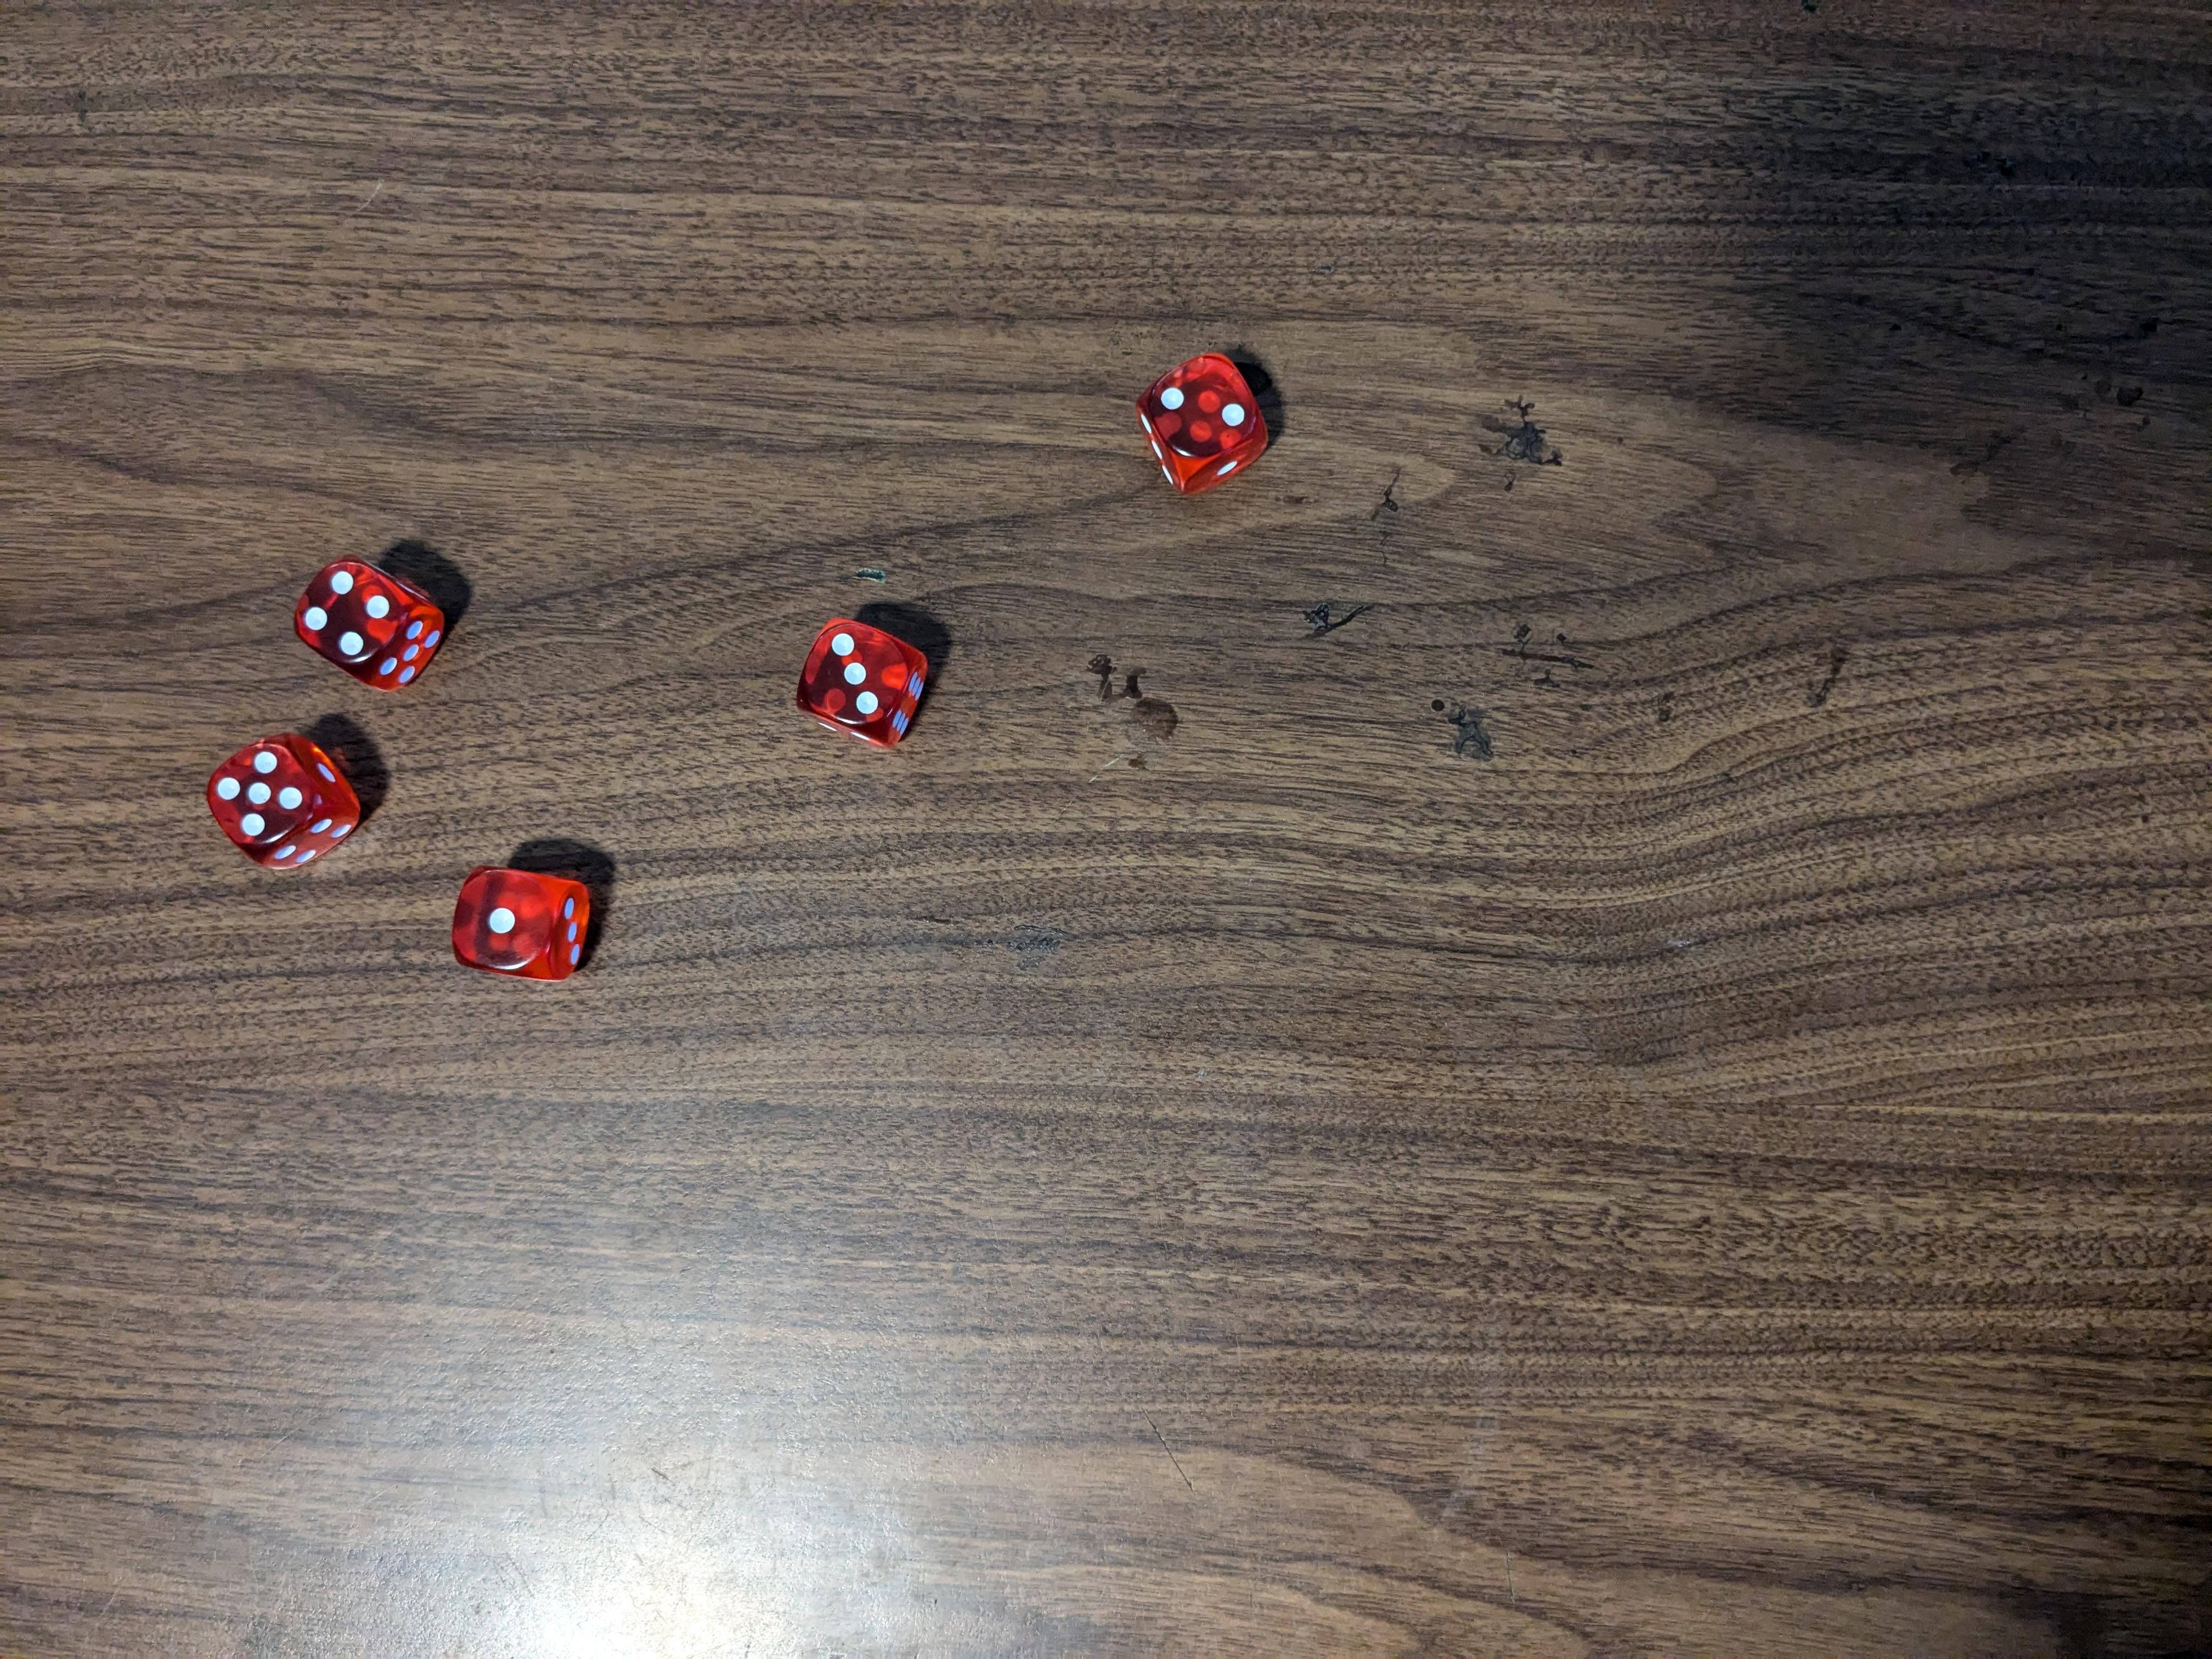five: (202, 734, 362, 871)
four: (293, 559, 437, 692)
one: (446, 861, 603, 985)
three: (794, 617, 941, 742)
two: (1127, 356, 1263, 490)
